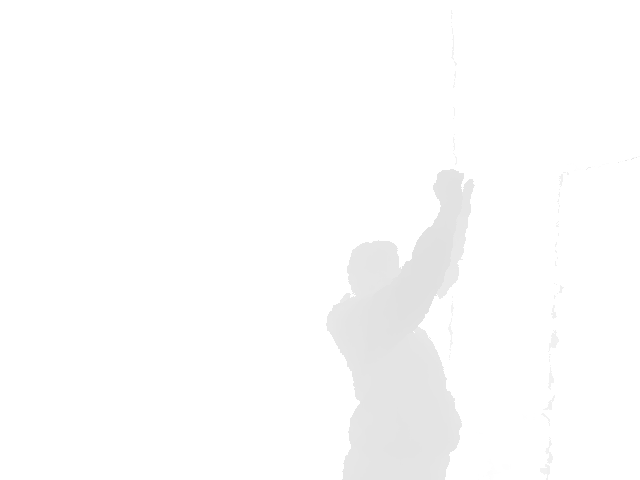hand: (431, 168, 462, 211), (462, 177, 477, 214)
head: (347, 240, 403, 299)
person: (325, 168, 476, 479)
